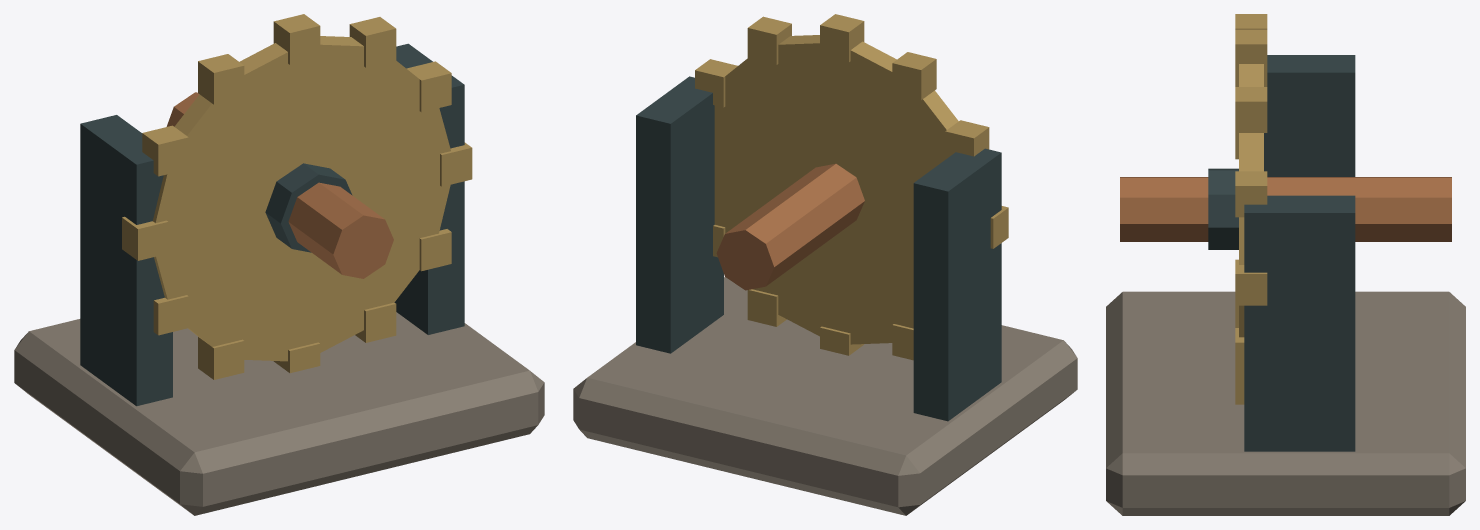
Rendered from works_turbine.glb.
The picture shows the model from 3 angles, left to right: view 1: azimuth 30°, elevation 25°; view 2: azimuth 150°, elevation 25°; view 3: azimuth 270°, elevation 25°; orthographic projection. The views are drawn at different scales.
Parts seen in each view (by area): view 1: turbine_wheel, foundation, support, axle, support.001, turbine_wheel_hub, turbine_wheel_tooth.004, turbine_wheel_tooth.003, turbine_wheel_tooth.005, turbine_wheel_tooth.002, turbine_wheel_tooth.006, turbine_wheel_tooth.008 (+6 smaller); view 2: foundation, turbine_wheel, support, support.001, axle, turbine_wheel_tooth.004, turbine_wheel_tooth.003, turbine_wheel_tooth.002, turbine_wheel_tooth.005, turbine_wheel_tooth.001, turbine_wheel_tooth.010, turbine_wheel_tooth.009 (+2 smaller); view 3: foundation, support.001, axle, support, turbine_wheel_hub, turbine_wheel, turbine_wheel_tooth.002, turbine_wheel_tooth.001, turbine_wheel_tooth.003, turbine_wheel_tooth, turbine_wheel_tooth.004.
Boxes of the visible parts, box(x1,y1,x2,y2) form: turbine_wheel: box(153, 36, 450, 361); foundation: box(14, 312, 544, 515); support: box(80, 115, 172, 406); axle: box(166, 92, 393, 278); support.001: box(394, 43, 464, 334); turbine_wheel_hub: box(265, 163, 352, 252); turbine_wheel_tooth.004: box(198, 54, 244, 104); turbine_wheel_tooth.003: box(273, 14, 320, 64); turbine_wheel_tooth.005: box(142, 125, 188, 176); turbine_wheel_tooth.002: box(349, 17, 396, 67); turbine_wheel_tooth.006: box(122, 216, 168, 260); turbine_wheel_tooth.008: box(198, 337, 244, 379); foundation: box(573, 277, 1077, 515); turbine_wheel: box(714, 35, 958, 344); support: box(913, 148, 1001, 421); support.001: box(636, 76, 723, 353); axle: box(716, 163, 864, 290); turbine_wheel_tooth.004: box(892, 52, 936, 100); turbine_wheel_tooth.003: box(820, 14, 864, 62); turbine_wheel_tooth.002: box(747, 16, 791, 64); turbine_wheel_tooth.005: box(945, 120, 989, 159); turbine_wheel_tooth.001: box(695, 59, 737, 107); turbine_wheel_tooth.010: box(747, 289, 786, 326); turbine_wheel_tooth.009: box(820, 326, 864, 355); foundation: box(1106, 291, 1465, 515); support.001: box(1244, 195, 1355, 451); axle: box(1120, 177, 1451, 241); support: box(1264, 55, 1355, 176); turbine_wheel_hub: box(1208, 168, 1238, 249); turbine_wheel: box(1239, 64, 1263, 337); turbine_wheel_tooth.002: box(1235, 87, 1267, 132); turbine_wheel_tooth.001: box(1235, 171, 1267, 217); turbine_wheel_tooth.003: box(1235, 29, 1267, 75); turbine_wheel_tooth: box(1235, 259, 1267, 305); turbine_wheel_tooth.004: box(1235, 14, 1267, 29).
Bounding box in the file's own units: 3 × 3.17 × 2.6.
